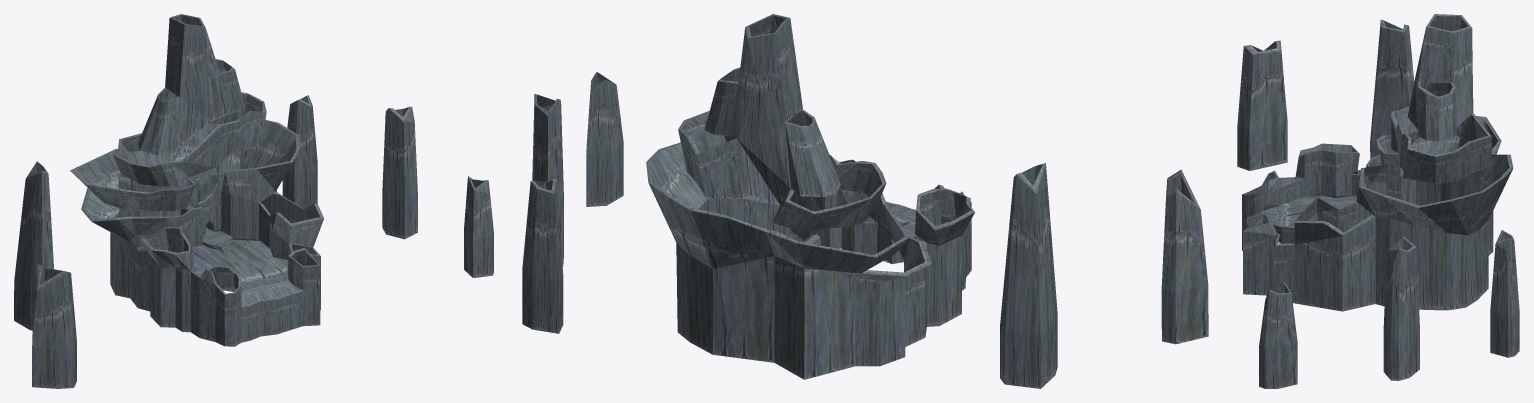
The model's file is isla.obj.
The picture shows the model from 3 angles, left to right: view 1: azimuth 30°, elevation 25°; view 2: azimuth 150°, elevation 25°; view 3: azimuth 270°, elevation 25°; orthographic projection. The views are drawn at different scales.
Visible parts, largest first — view 1: n0b6; view 2: n0b6; view 3: n0b6.
Part boxes in pixels (bbox=[...]): n0b6: bbox=[14, 14, 493, 388]; n0b6: bbox=[522, 14, 1208, 388]; n0b6: bbox=[1237, 14, 1519, 388].
Bounding box in the file's own units: 113 × 57.09 × 56.68.
